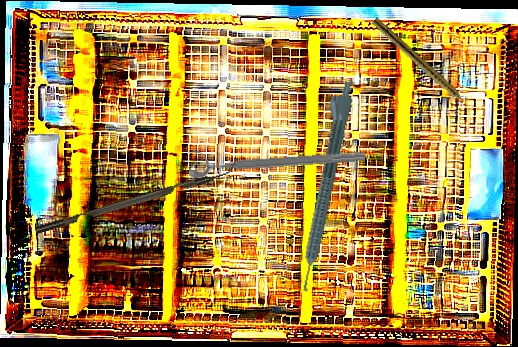Chopper: (31, 157, 243, 235)
Fixation Ring: (187, 136, 366, 179)
Handpiece: (287, 78, 357, 293), (369, 16, 472, 111)
